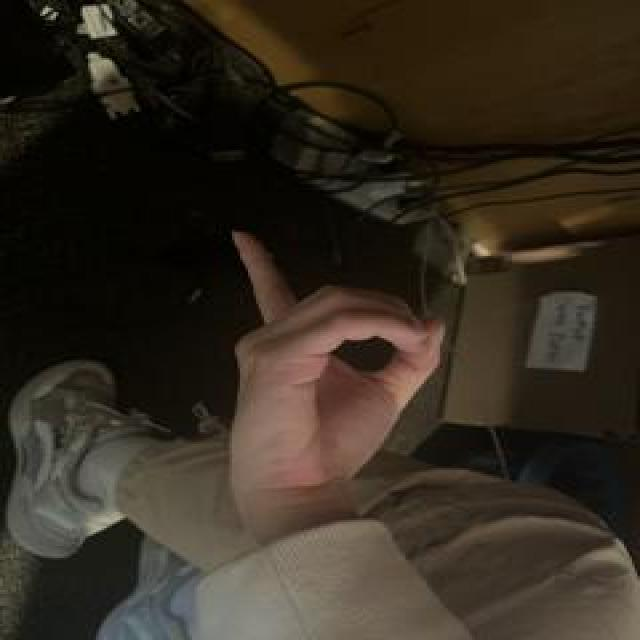D: (224, 229, 448, 495)
